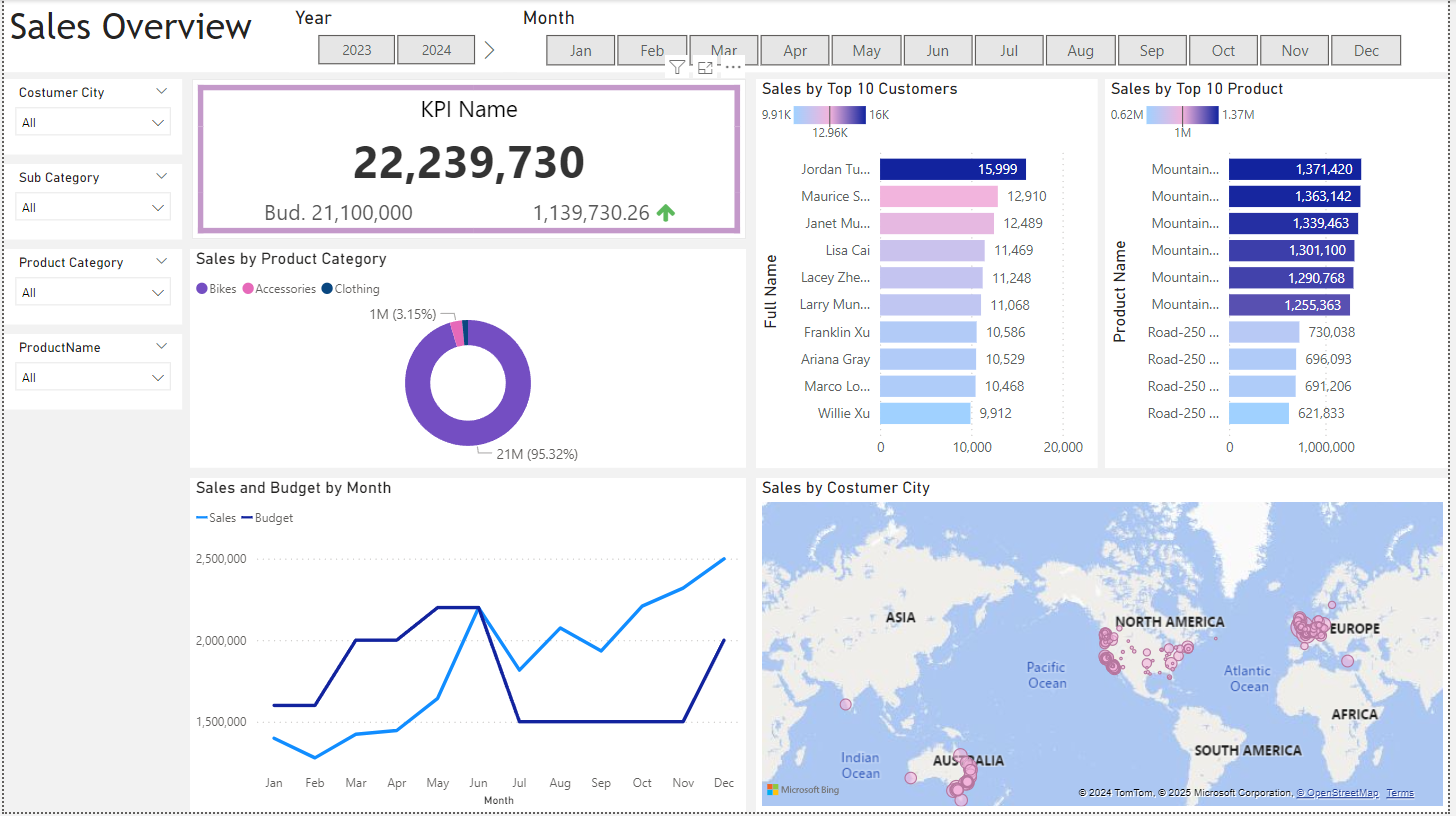

This screenshot's page, from the dashboard's own definition file:
{"tool":"powerbi","page":{"name":"Sales Overview","canvas":[1280,720],"ordinal":0},"visuals":[{"type":"textbox","box":[0,0,1280.4,63.8],"z":0},{"type":"slicer","fields":{"Values":["DIM_Customers.Costumer City"]},"box":[0,70,157.8,66.5],"z":1000},{"type":"slicer","title":"Year","fields":{"Values":["DIM_Calender.Year"]},"box":[252.7,0,188.9,63.8],"z":2000},{"type":"slicer","fields":{"Values":["DIM_Products.Sub Category"]},"box":[0,145.4,157.8,66.5],"z":3000},{"type":"slicer","fields":{"Values":["DIM_Products.Product Category"]},"box":[0,220.8,157.8,66.5],"z":4000},{"type":"slicer","fields":{"Values":["DIM_Products.ProductName"]},"box":[0,296.2,157.8,66.5],"z":5000},{"type":"slicer","title":"Month","fields":{"Values":["DIM_Calender.MonthShort"]},"box":[454.9,0,807.8,63.8],"z":6000},{"type":"BBED0A4D4D8D44CE93CF2DAFADEE466C","fields":{"target1":["FACT_Budget.Budget Amount"],"target2":["Key Measurements.Sales - Budget"],"actual":["Key Measurements.Sales"]},"box":[166.7,70,491.2,141.9],"z":7000},{"type":"donutChart","fields":{"Category":["DIM_Products.Product Category"],"Y":["Key Measurements.Sales"]},"box":[164.9,220.8,493,194.2],"z":8000},{"type":"lineChart","title":"Sales and Budget by Month","fields":{"Y":["Key Measurements.Sales","Key Measurements.Budget Amount"],"Category":["DIM_Calender.MonthShort"]},"box":[164.9,423.8,493,296.2],"z":9000},{"type":"barChart","title":"Sales by Top 10 Customers","fields":{"Y":["Key Measurements.Sales"],"Category":["DIM_Customers.Full Name"]},"box":[666.8,70,303.3,344.9],"z":10000},{"type":"barChart","title":"Sales by Top 10 Product","fields":{"Y":["Key Measurements.Sales"],"Category":["DIM_Products.ProductName"]},"box":[976.3,70,304.1,344.9],"z":11000},{"type":"map","fields":{"Category":["DIM_Customers.Costumer City"],"Size":["Key Measurements.Sales"]},"box":[666.8,423.8,613.6,296.2],"z":12000}]}

Visuals, with their boxes in screenshot pixels (x1, y1, x2, y2), scaled from the page's 1280x720 canvas onto the 1456x816 screenshot:
textbox: 0:0:1455:72
slicer - DIM_Customers.Costumer City: 0:79:179:155
"Year" slicer: 287:0:502:72
slicer - DIM_Products.Sub Category: 0:165:179:240
slicer - DIM_Products.Product Category: 0:250:179:326
slicer - DIM_Products.ProductName: 0:336:179:411
"Month" slicer: 517:0:1436:72
BBED0A4D4D8D44CE93CF2DAFADEE466C - FACT_Budget.Budget Amount x Key Measurements.Sales - Budget: 190:79:748:240
donutChart - DIM_Products.Product Category x Key Measurements.Sales: 188:250:748:470
"Sales and Budget by Month" lineChart: 188:480:748:815
"Sales by Top 10 Customers" barChart: 758:79:1103:470
"Sales by Top 10 Product" barChart: 1111:79:1455:470
map - DIM_Customers.Costumer City x Key Measurements.Sales: 758:480:1455:815
